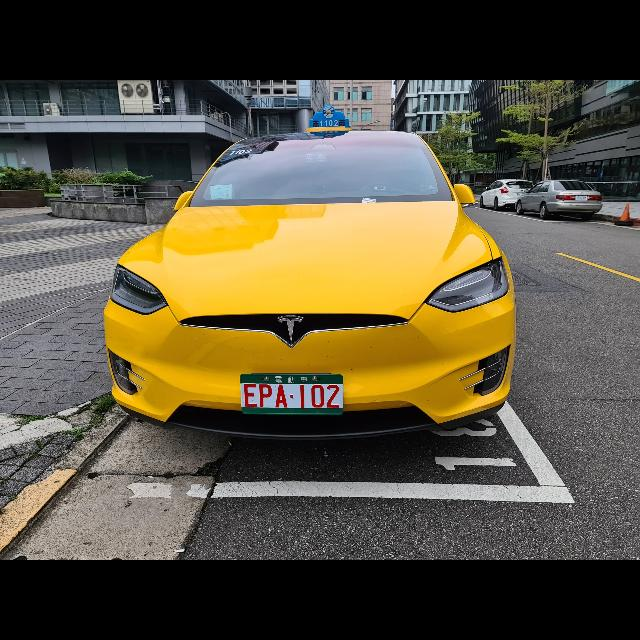plate: (240, 374, 344, 415)
